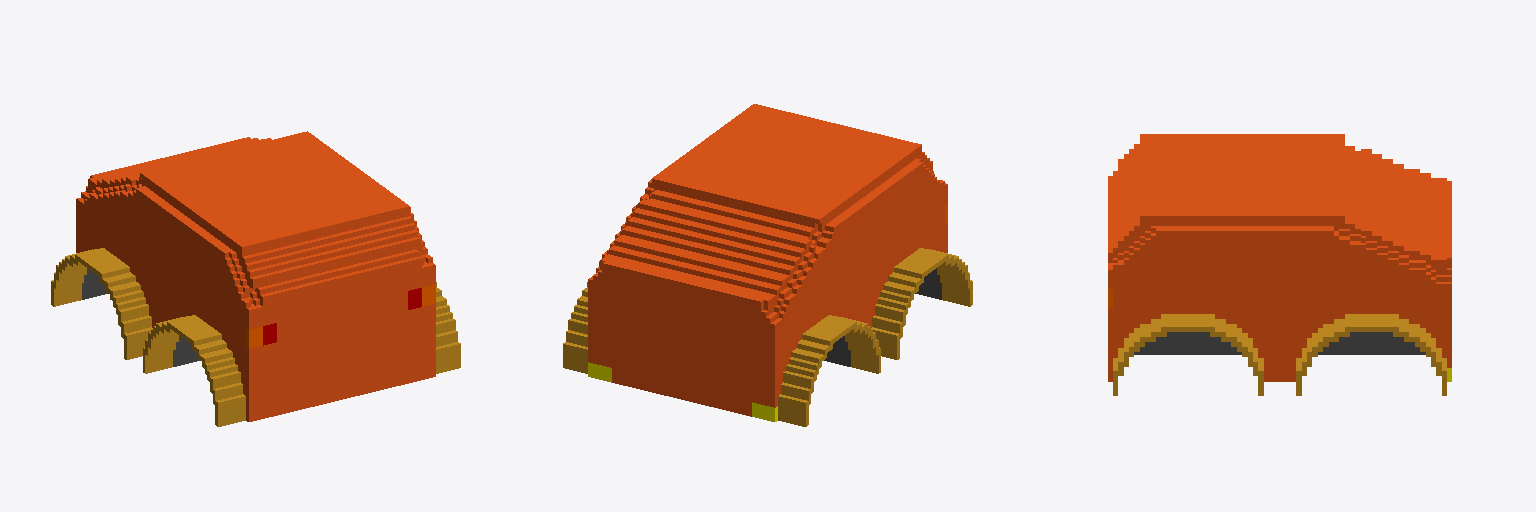
The picture shows the model from 3 angles: view 1: azimuth 30°, elevation 25°; view 2: azimuth 150°, elevation 25°; view 3: azimuth 270°, elevation 25°; orthographic projection.
Parts seen in each view (by area): view 1: object 1; view 2: object 1; view 3: object 1.
Boxes of the visible parts, box(x1,y1,x2,y2) form: object 1: box(51, 131, 460, 426); object 1: box(563, 104, 972, 426); object 1: box(1108, 134, 1451, 395).
Bounding box in the file's own units: 5.2 × 3.3 × 6.4.
1 materials, 1 textured.